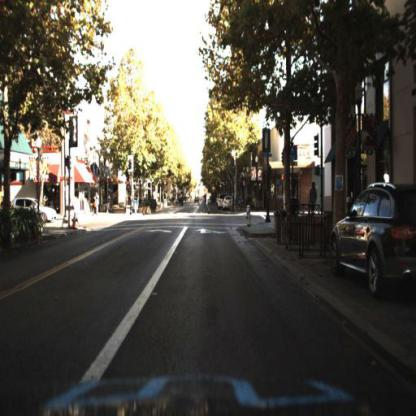car: (332, 167, 416, 297), (7, 190, 59, 235), (224, 194, 236, 215), (217, 192, 224, 216)
pedestrian: (200, 184, 210, 221), (308, 181, 319, 212), (309, 183, 319, 214), (94, 189, 102, 218), (92, 198, 99, 221)
trafficLight-Red: (230, 152, 238, 173), (127, 156, 134, 173)
